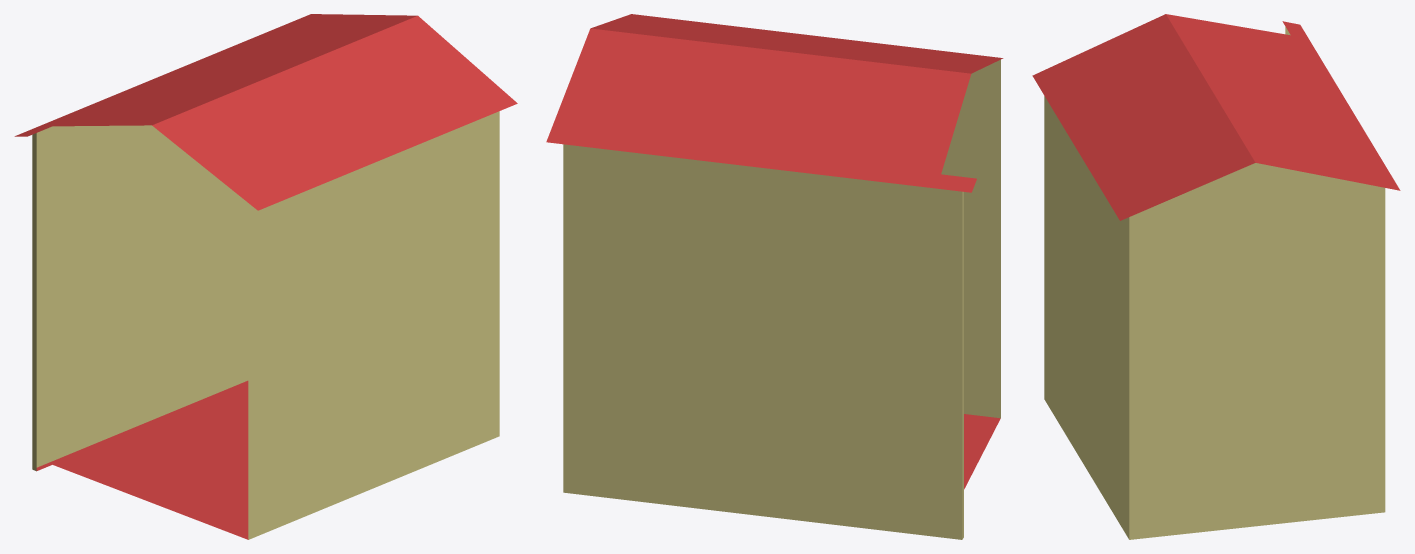
The picture shows the model from 3 angles, left to right: view 1: azimuth 30°, elevation 25°; view 2: azimuth 150°, elevation 25°; view 3: azimuth 270°, elevation 25°; orthographic projection. The views are drawn at different scales.
Bounding box in the file's own units: 9.16 × 7.26 × 8.02.
